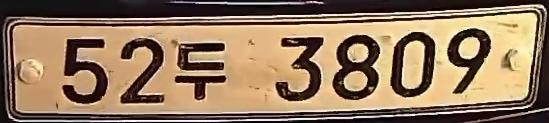0: (387, 26, 438, 98)
2: (115, 33, 172, 108)
3: (270, 31, 328, 103)
5: (56, 34, 114, 107)
8: (329, 30, 383, 104)
9: (444, 25, 494, 96)
두: (172, 36, 231, 104)
